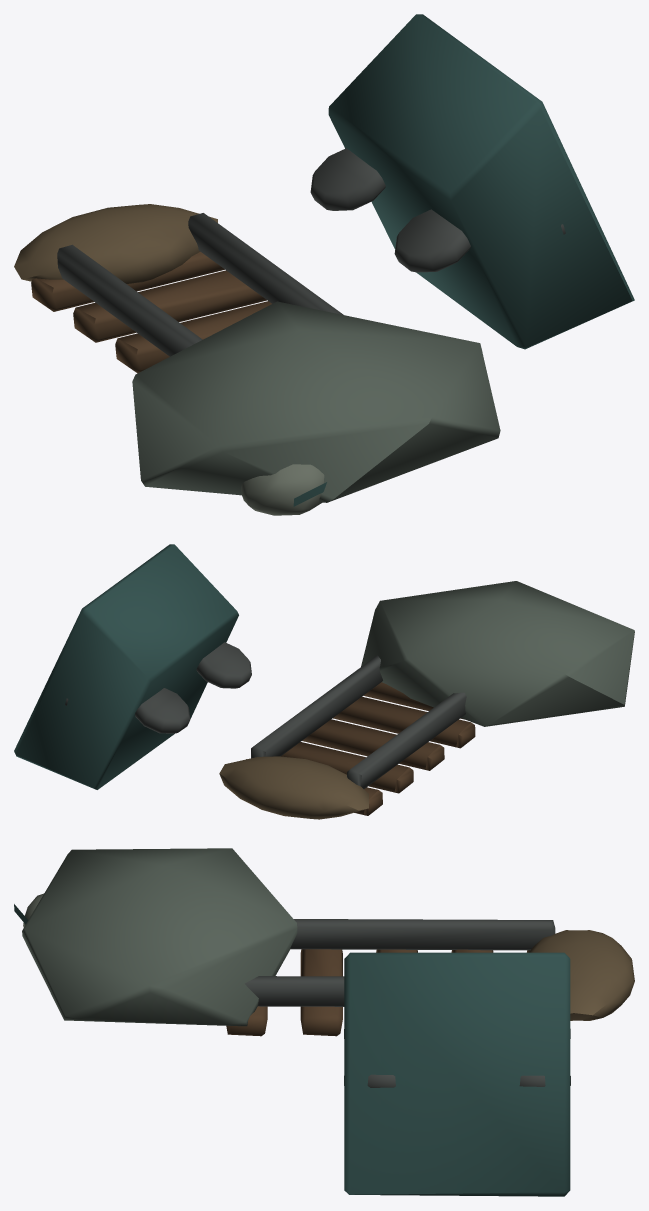
File: ore_cart_stub_b_lod1.glb
3 renders of one model, top to bottom at view 1: azimuth 30°, elevation 25°; view 2: azimuth 150°, elevation 25°; view 3: azimuth 270°, elevation 25°, orthographic. The views are drawn at different scales.
Parts seen in each view (by area): view 1: Surface.001; view 2: Surface.001; view 3: Surface.001.
Boxes of the visible parts, left/top/right/bottom form: Surface.001: left=14, top=14, right=634, bottom=515; Surface.001: left=14, top=544, right=634, bottom=819; Surface.001: left=14, top=848, right=634, bottom=1196.
Bounding box in the file's own units: 4.15 × 1.61 × 4.12.
